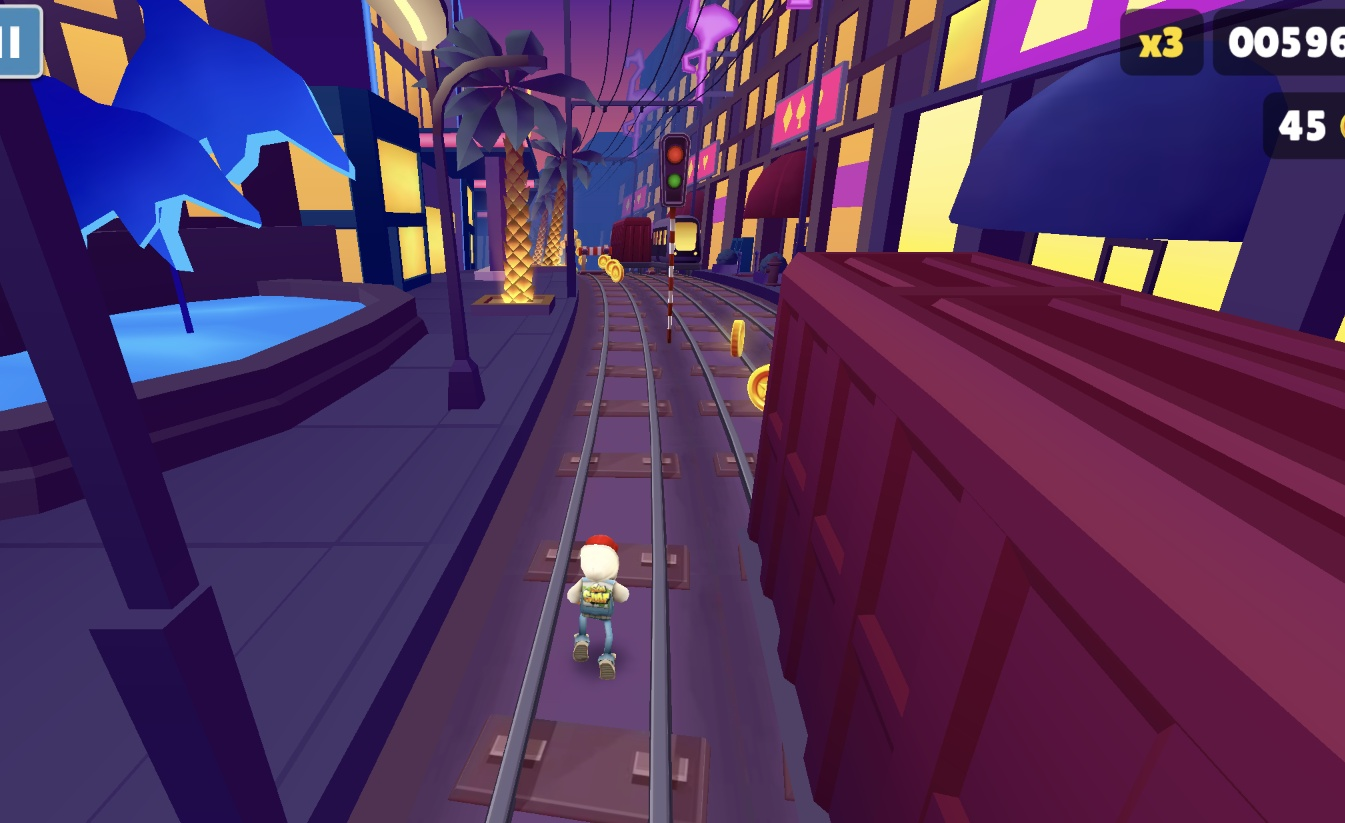ground_barrier: (581, 247, 611, 276)
train: (743, 247, 1345, 823), (652, 214, 703, 272), (610, 217, 656, 278)
